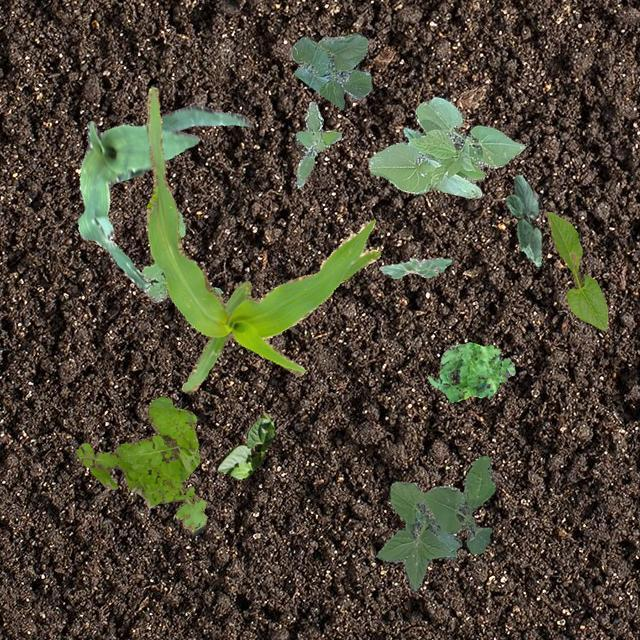crop: (144, 85, 380, 392), (76, 104, 248, 292), (368, 96, 524, 198), (546, 210, 606, 330), (290, 32, 372, 108), (214, 412, 274, 478), (504, 174, 540, 266), (378, 256, 451, 278)
weed: (74, 396, 206, 534), (374, 454, 494, 590), (140, 208, 222, 302), (426, 342, 514, 402), (294, 100, 340, 186)
